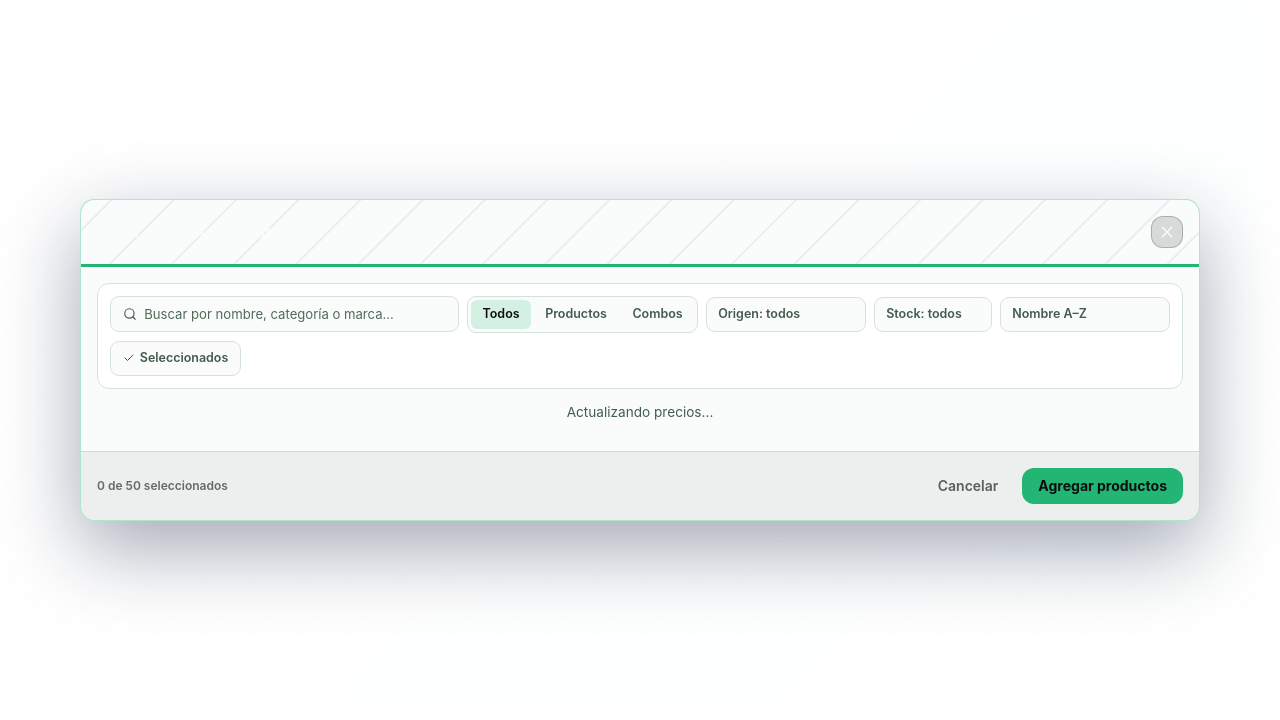
it: permite reintentar si falla el guardado
Click the button "Agregar productos": click(1103, 486) [1022, 468, 1183, 504]
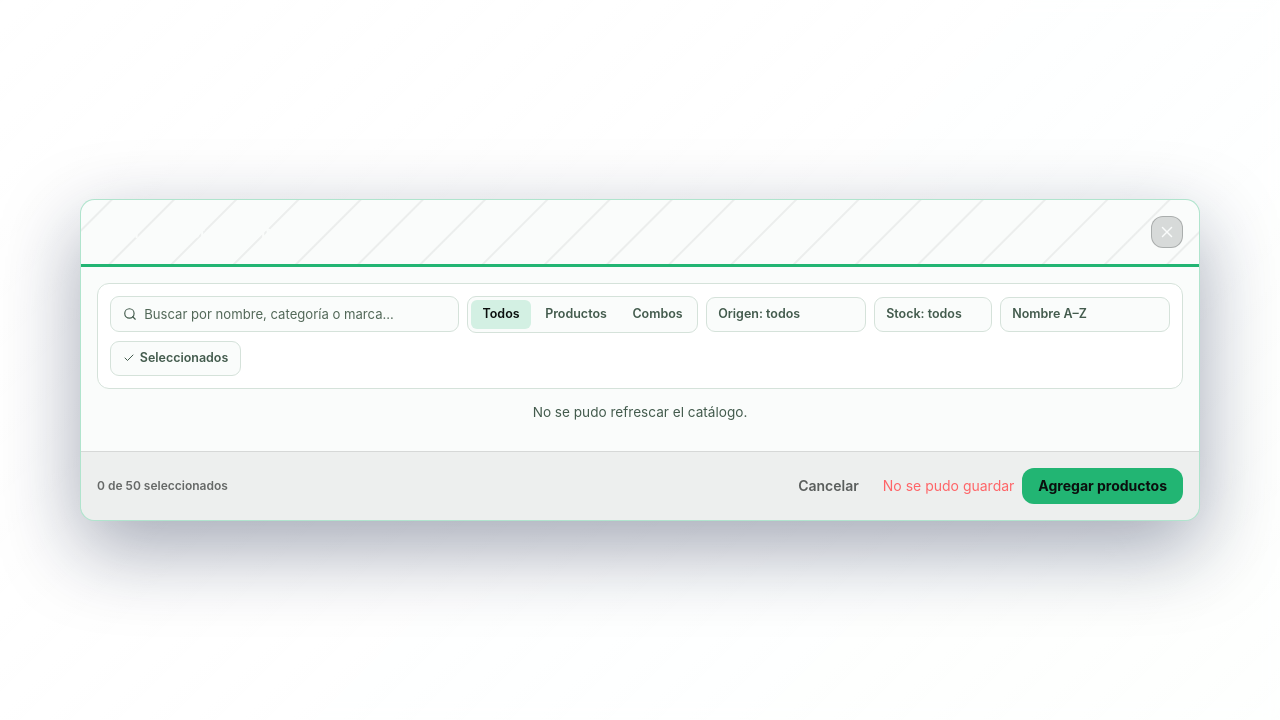
Result: the message reads "No se pudo guardar" at [883, 477, 1014, 494]
